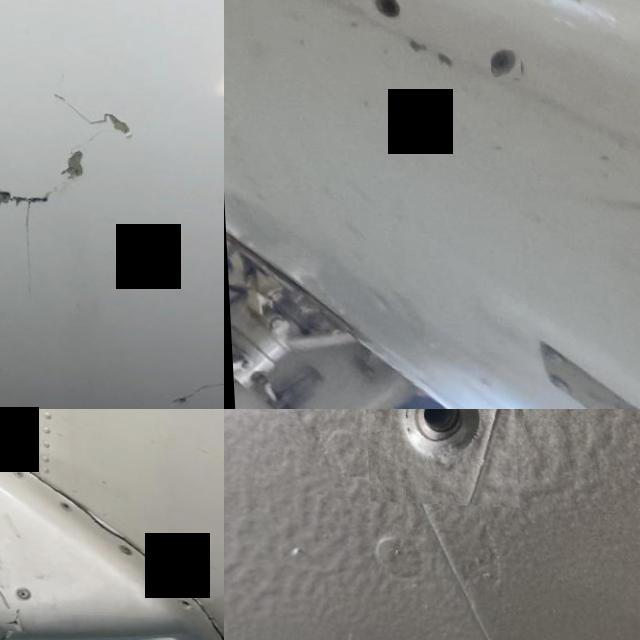Crack: (118, 533, 193, 596), (67, 500, 124, 540), (194, 581, 224, 640), (0, 607, 31, 631)
Missing_Fastener: (358, 409, 514, 504), (488, 47, 519, 76), (363, 0, 404, 19), (172, 596, 188, 610), (55, 499, 68, 512), (190, 635, 206, 640)
